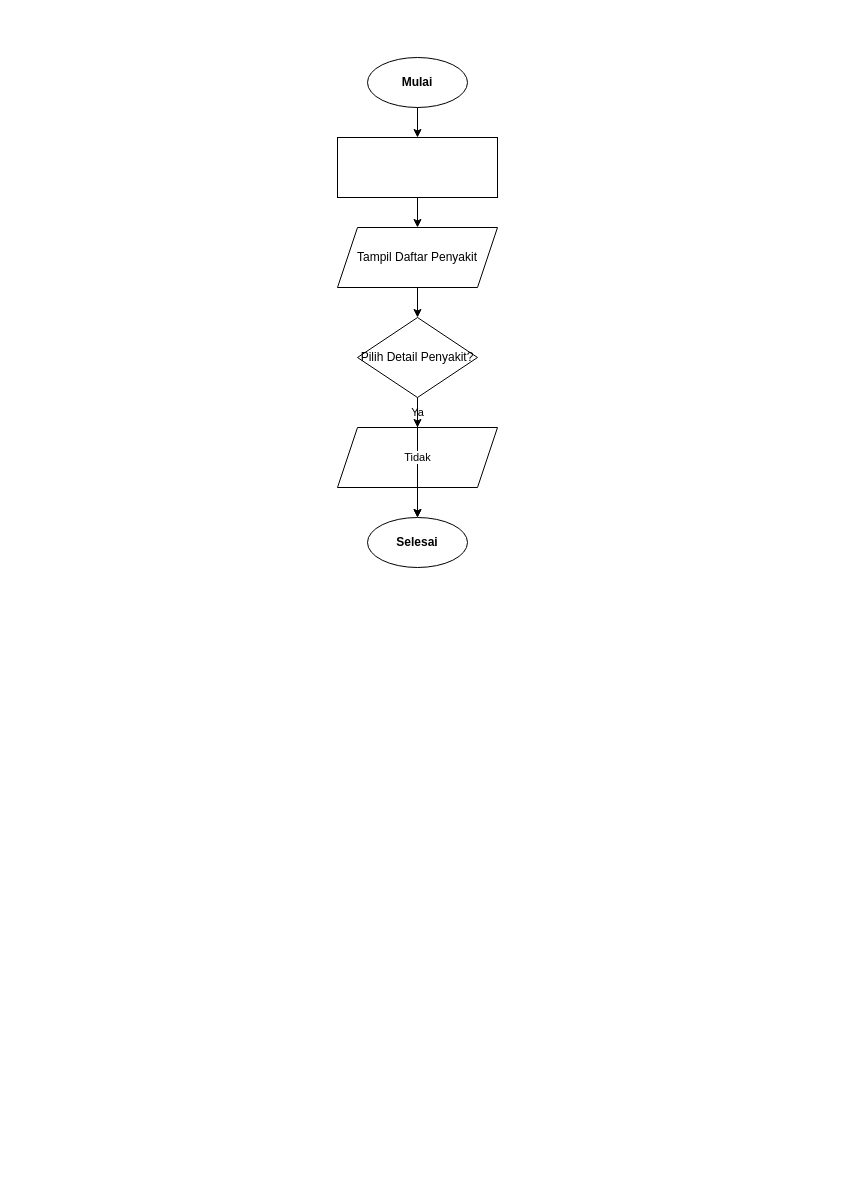
Image size: 861x1203. Some labels were removed from this diagram. The shapes that lost their labels are listed below. From the top down, each one's box as (x1, y1, x2, y2) in pixels, then its label:
(336, 136, 498, 198): Akses Menu Katalog
(336, 426, 498, 488): Tampil Info Detail
